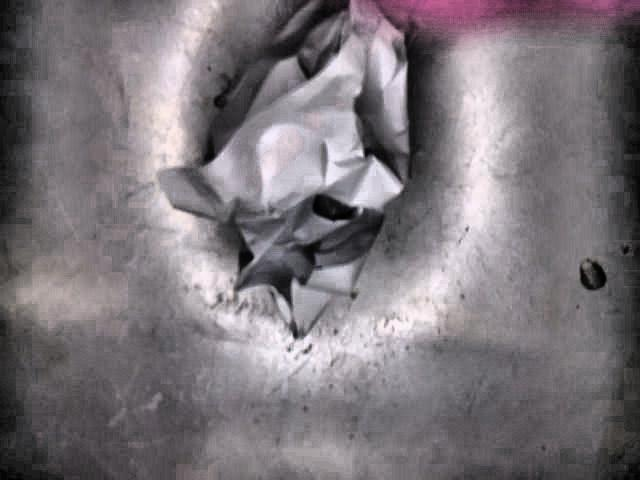Paper: (158, 0, 412, 346)
